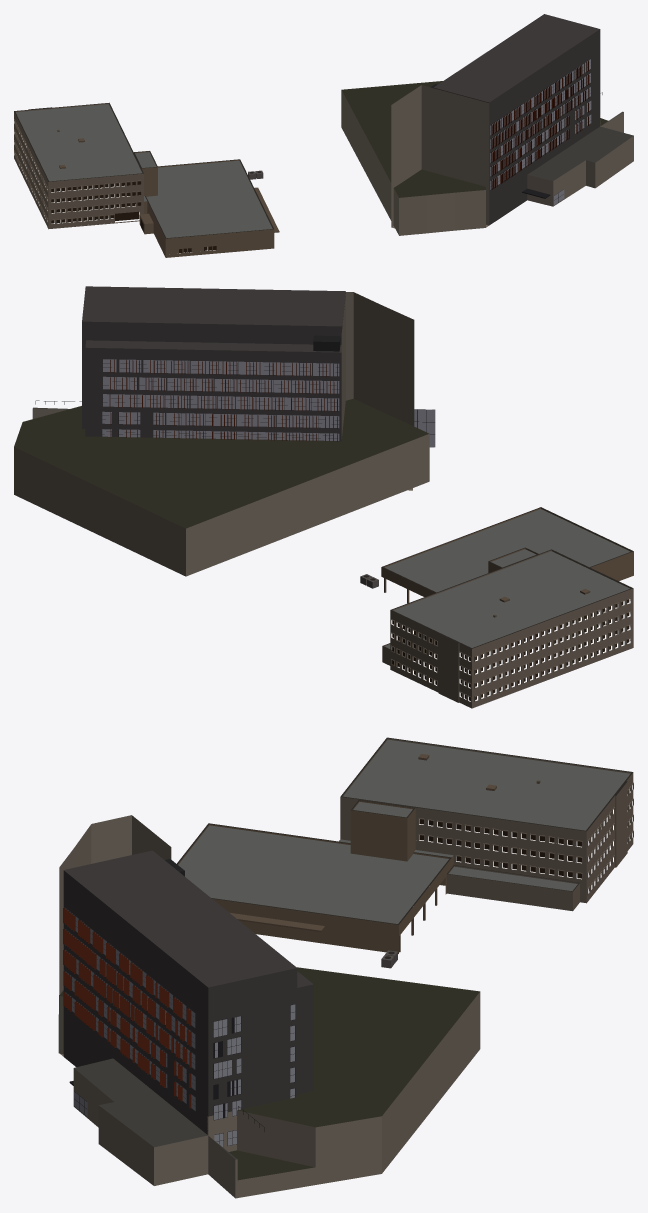
The picture shows the model from 3 angles, top to bottom: view 1: azimuth 30°, elevation 25°; view 2: azimuth 150°, elevation 25°; view 3: azimuth 270°, elevation 25°; orthographic projection. The views are drawn at different scales.
Parts seen in each view (by area): view 1: opaque, glass; view 2: opaque, glass; view 3: opaque, glass.
Boxes of the visible parts, left/top/right/bottom form: opaque: left=14, top=14, right=633, bottom=257; glass: left=51, top=59, right=591, bottom=252; opaque: left=14, top=286, right=633, bottom=708; glass: left=102, top=359, right=629, bottom=700; opaque: left=58, top=737, right=633, bottom=1198; glass: left=64, top=819, right=581, bottom=1147.
Bounding box in the file's own units: 188 × 42.09 × 127.
2 materials, 2 textured.
